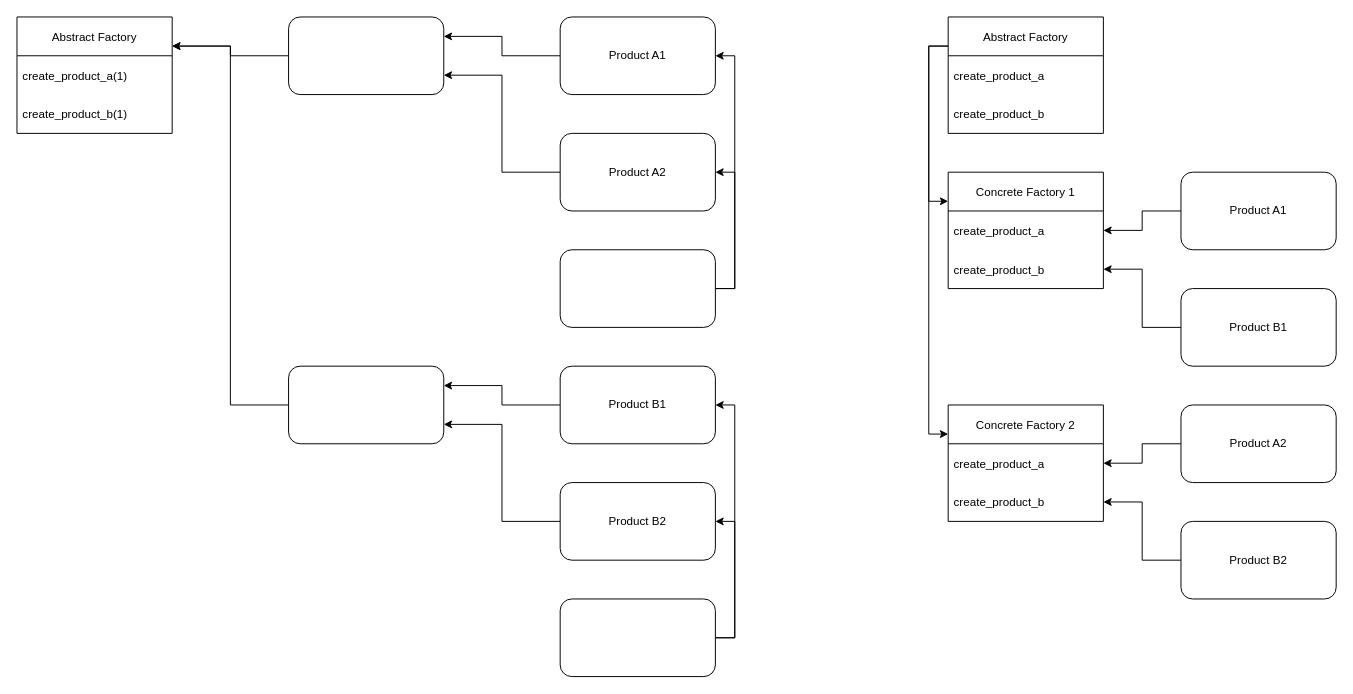
The diagram is 1353 pixels wide and 694 high, and some of its shapes have lost their labels. The centre of each missing label's shape, as x and y in pixels:
"Abstract Product A" belongs at [637,288].
"Abstract Product B" belongs at [637,637].
"Factory Method A" belongs at [366,55].
"Factory Method B" belongs at [366,404].
